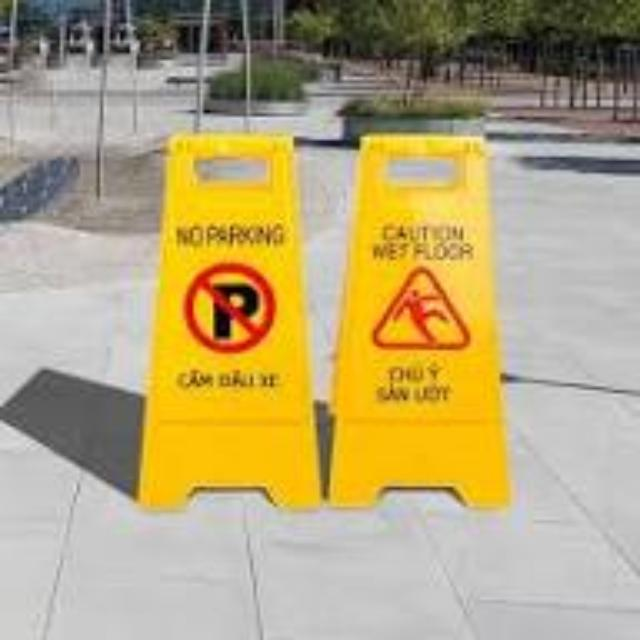tron truot: (330, 137, 507, 503)
